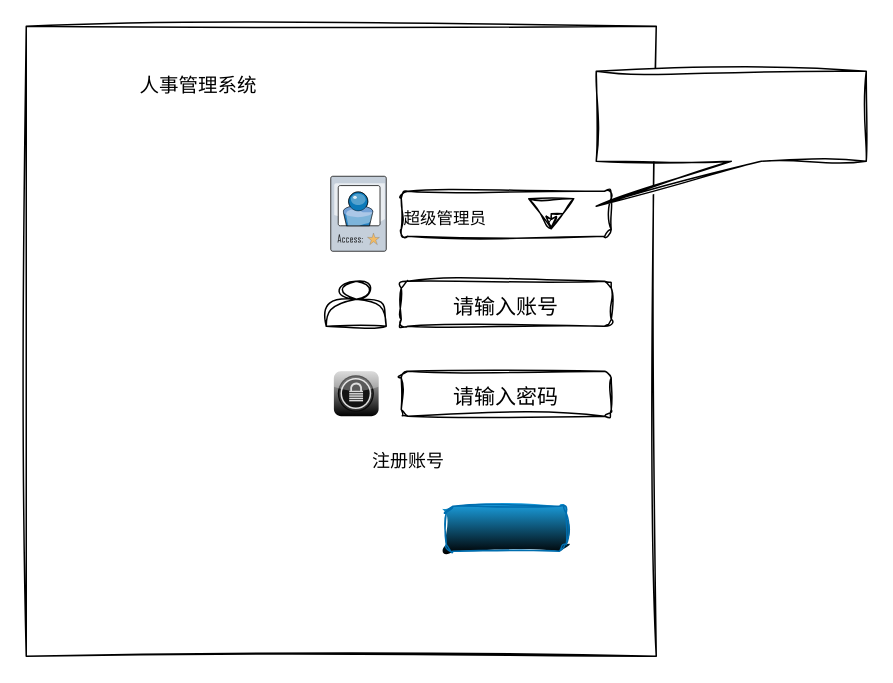
This 893x683 diagram has some shape labels left out. The box of each missing label's shape, as (x1, y1, x2, y2) in pixels:
下拉列表，可选项有超级管理员和寝室管理员: (595, 70, 866, 206)
登录: (445, 505, 566, 551)
